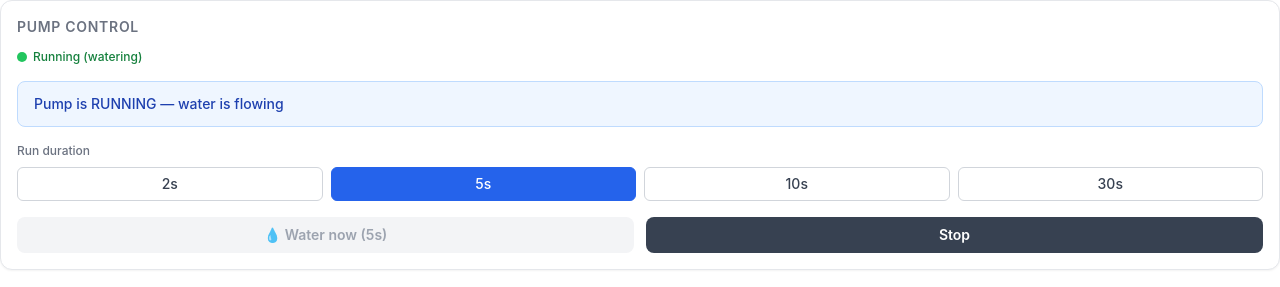
ControlPanel (MSW integration) › Stop sends a stop command when running
Expected: the text "Pump is RUNNING — water is flowing" is shown, [17,81,1263,127]
Click the button with aria-label "stop pump": [954, 235] box [646,217,1263,253]
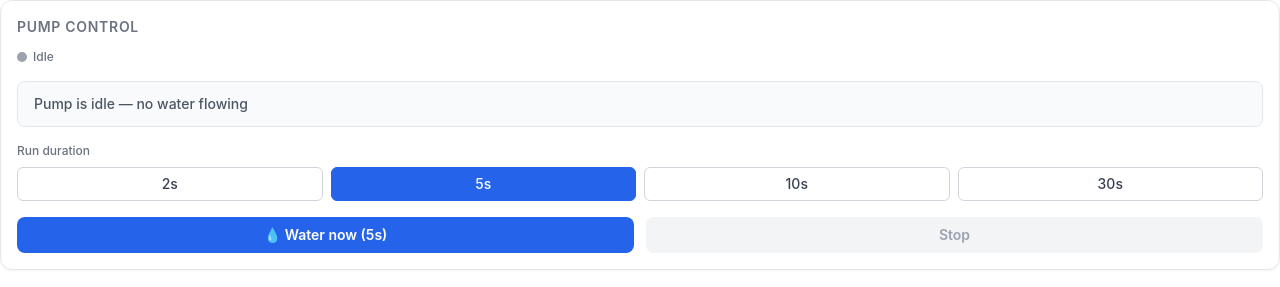
Result: the text "Pump is idle — no water flowing" is shown at [17,81,1263,127]
